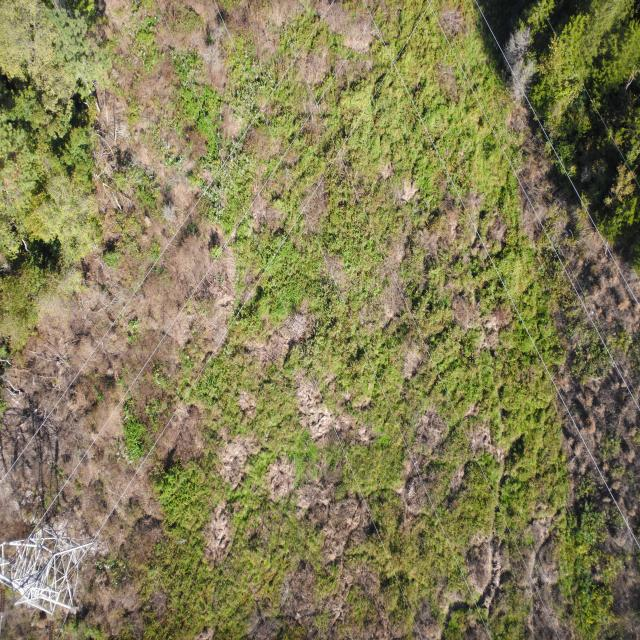Area of Interest: (5, 9, 95, 346), (531, 12, 639, 235)
